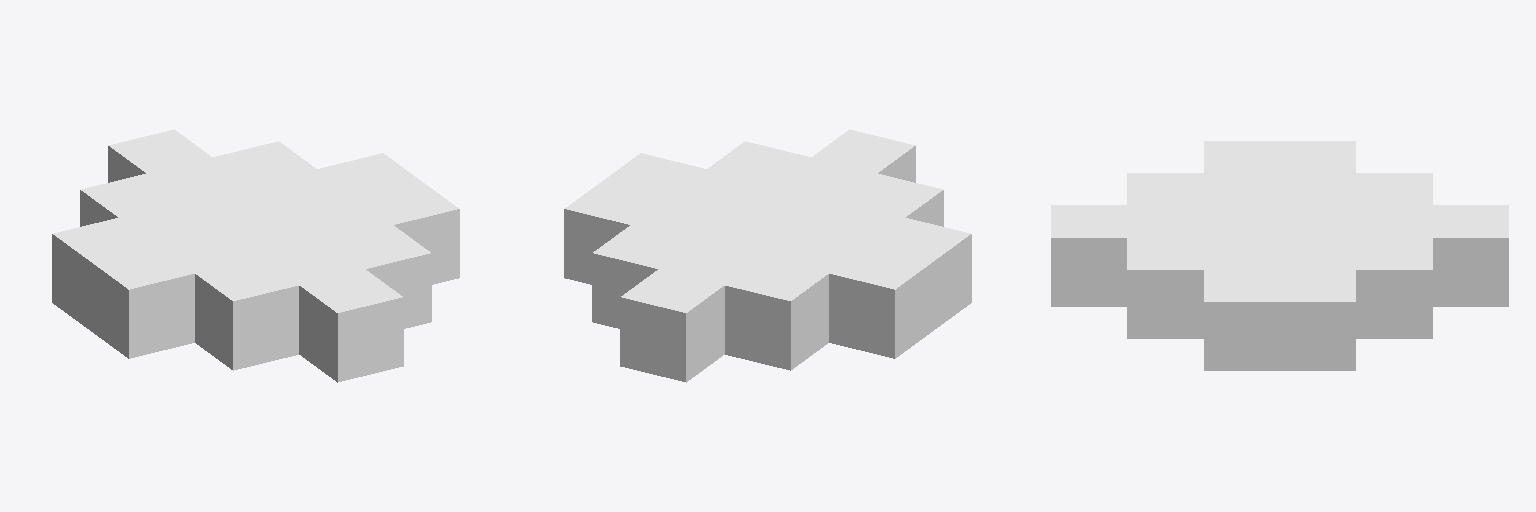
The model's file is hair05.obj.
The picture shows the model from 3 angles: view 1: azimuth 30°, elevation 25°; view 2: azimuth 150°, elevation 25°; view 3: azimuth 270°, elevation 25°; orthographic projection.
Parts seen in each view (by area): view 1: object 1; view 2: object 1; view 3: object 1.
Boxes of the visible parts, x1,y1,x2,y2 form: object 1: [52, 129, 459, 382]; object 1: [564, 129, 971, 382]; object 1: [1051, 141, 1508, 370].
Size of the model in its own units: 0.5 by 0.1 by 0.6.